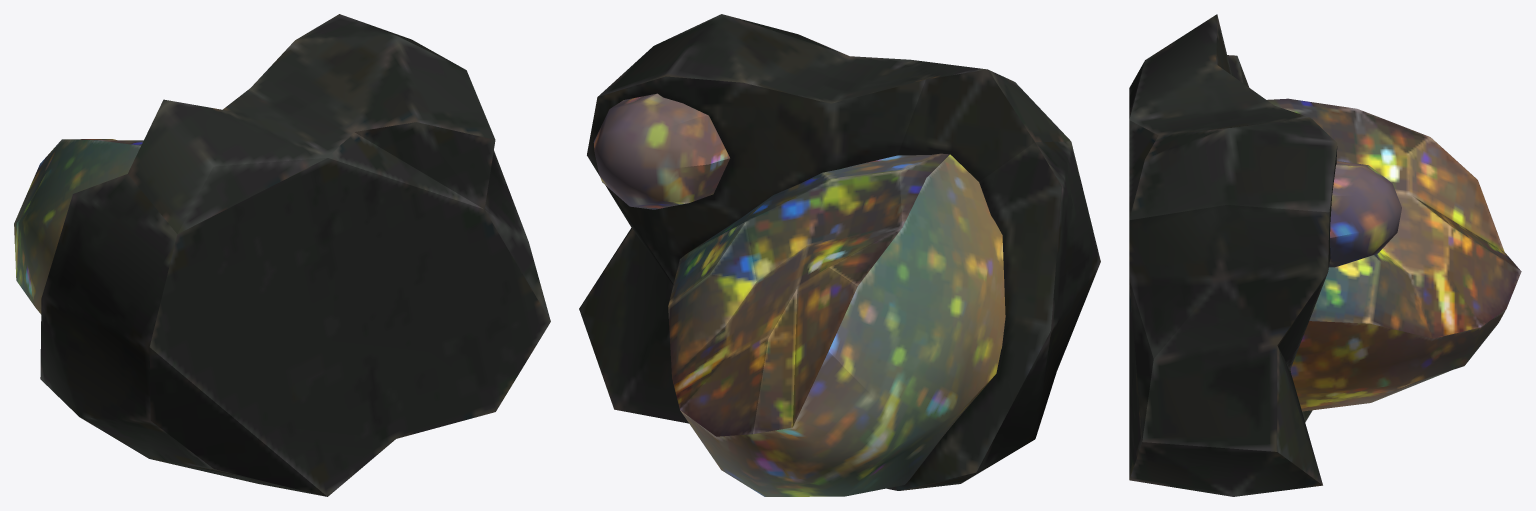
The picture shows the model from 3 angles, left to right: view 1: azimuth 30°, elevation 25°; view 2: azimuth 150°, elevation 25°; view 3: azimuth 270°, elevation 25°; orthographic projection. The views are drawn at different scales.
Parts seen in each view (by area): view 1: Root__Mt_Body, Root__Mt_Ore; view 2: Root__Mt_Ore, Root__Mt_Body; view 3: Root__Mt_Body, Root__Mt_Ore.
Part boxes in pixels (bbox=[...]): Root__Mt_Body: bbox=[40, 14, 550, 496]; Root__Mt_Ore: bbox=[14, 139, 143, 314]; Root__Mt_Ore: bbox=[593, 93, 1005, 496]; Root__Mt_Body: bbox=[579, 14, 1100, 490]; Root__Mt_Body: bbox=[1129, 14, 1337, 496]; Root__Mt_Ore: bbox=[1267, 98, 1521, 411].
Bounding box in the file's own units: 0.5718 × 0.498 × 0.46.
2 materials, 2 textured.
